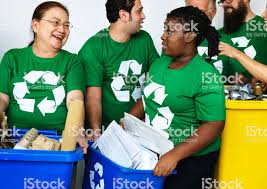person: (10, 1, 83, 110), (152, 6, 218, 124)
